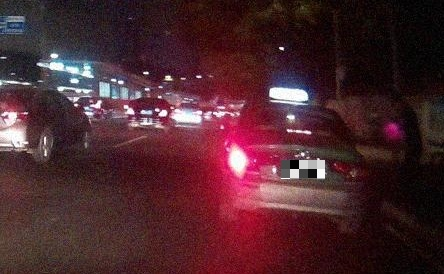L_light: (228, 150, 261, 175), (127, 108, 135, 115)
R_light: (329, 159, 367, 180), (157, 109, 168, 116)
T_light: (287, 128, 311, 134), (146, 100, 152, 102)
night-left: (227, 101, 369, 238)
night-no: (126, 97, 168, 133)
plate_1: (281, 160, 325, 179)
